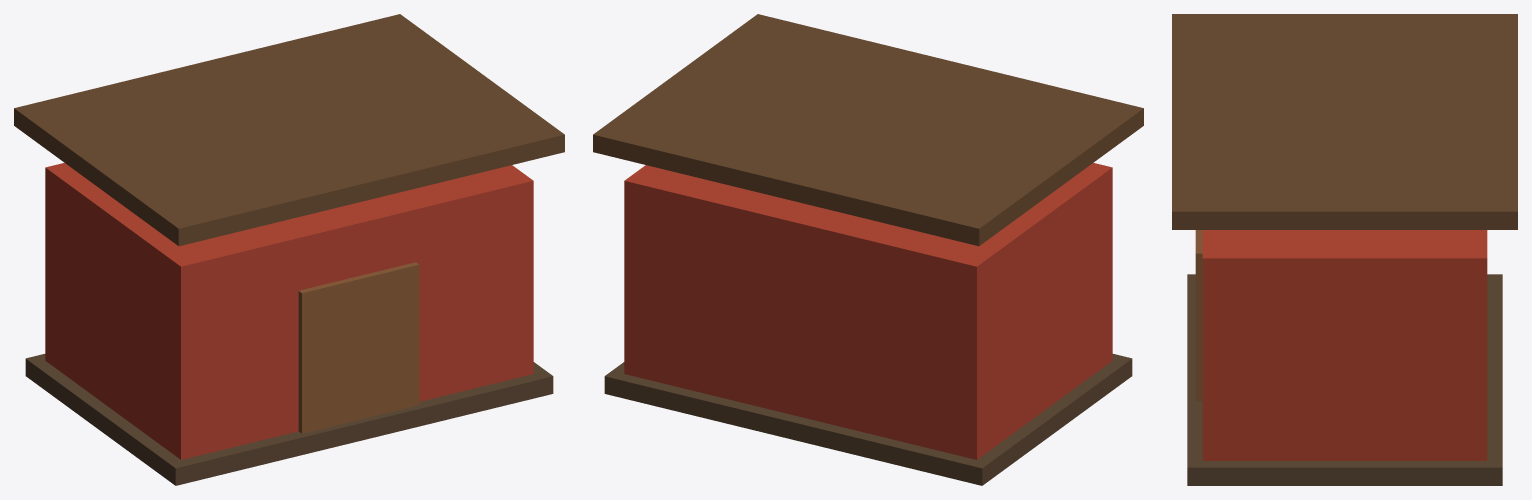
File: barn.glb
3 views of the same model, side by side, from view 1: azimuth 30°, elevation 25°; view 2: azimuth 150°, elevation 25°; view 3: azimuth 270°, elevation 25° (orthographic). The views are drawn at different scales.
Visible parts, largest first — view 1: barn; view 2: barn; view 3: barn.
Part boxes in pixels (x1,y1,x2,y2): barn: (14, 14, 564, 485); barn: (593, 14, 1143, 485); barn: (1172, 14, 1517, 485).
Size of the model in its own units: 4.6 by 3 by 3.4.
